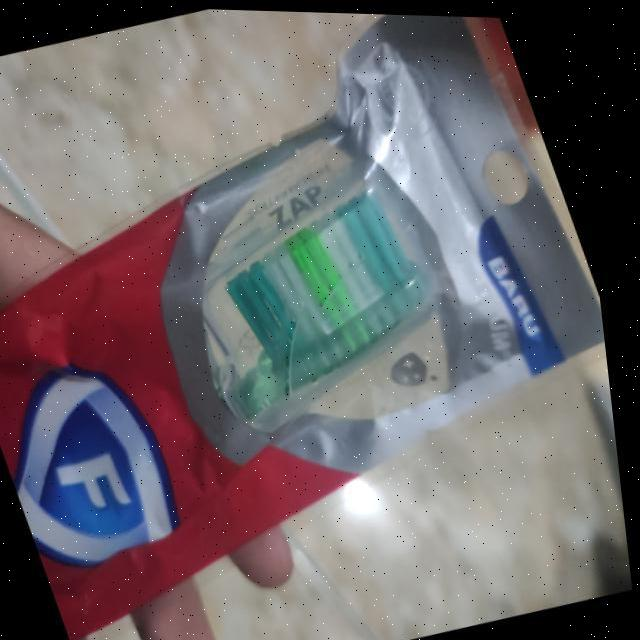toothbrush: (18, 167, 470, 582)
